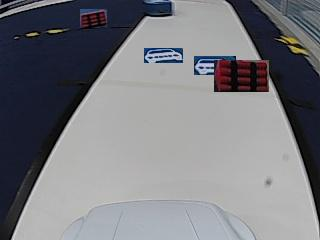prop: (144, 0, 173, 17)
